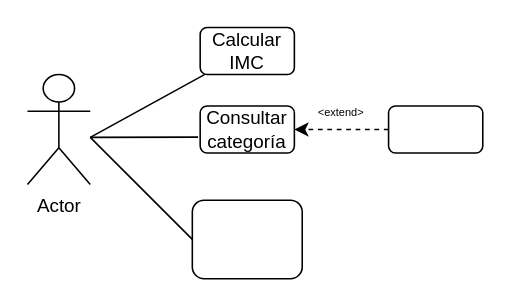
Image size: 510x306. Some labels were removed from this diagram. The shapes that lost their labels are listed below. From the top down, each one's centre as x and y in pixels, then its label:
pixel 435 128: Solicitar ayuda
pixel 246 239: Comprobar obesidad abdominal
